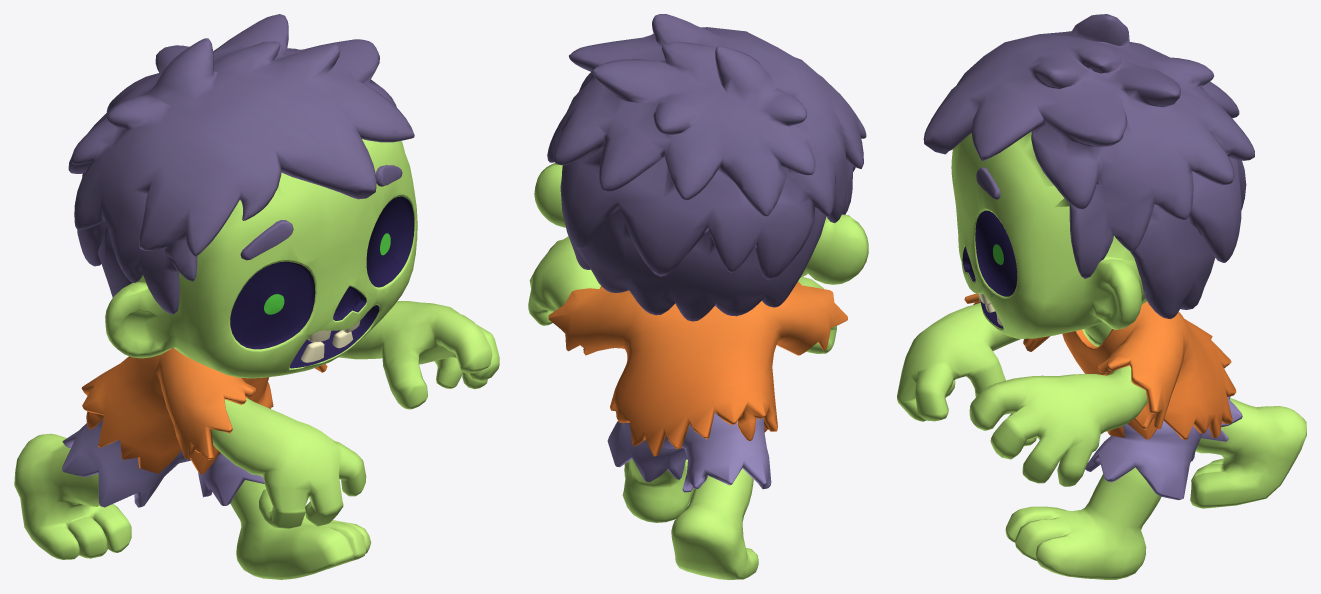
File: zombie.glb
The picture shows the model from 3 angles, left to right: view 1: azimuth 30°, elevation 25°; view 2: azimuth 150°, elevation 25°; view 3: azimuth 270°, elevation 25°; orthographic projection. The views are drawn at different scales.
Visible parts, largest first — view 1: WBA_Character_zombie_01; view 2: WBA_Character_zombie_01; view 3: WBA_Character_zombie_01.
Part boxes in pixels (x1=…): WBA_Character_zombie_01: x1=14, y1=14, x2=499, y2=579; WBA_Character_zombie_01: x1=528, y1=14, x2=868, y2=579; WBA_Character_zombie_01: x1=897, y1=14, x2=1306, y2=579.
Bounding box in the file's own units: 1.05 × 1.44 × 1.02.
1 material, 1 textured.
